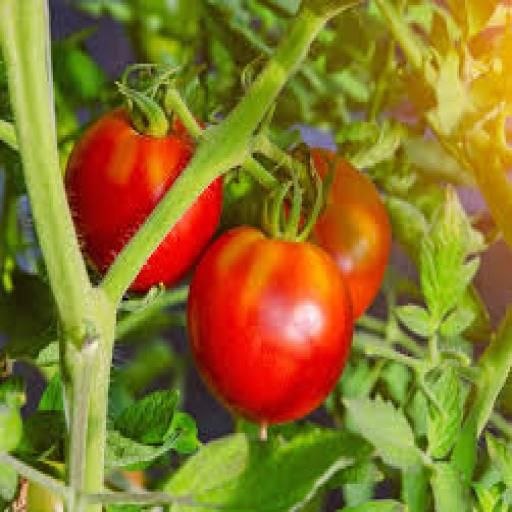tomato: (188, 227, 352, 425), (66, 110, 193, 272), (313, 148, 391, 318), (470, 26, 511, 106), (27, 482, 65, 511)
